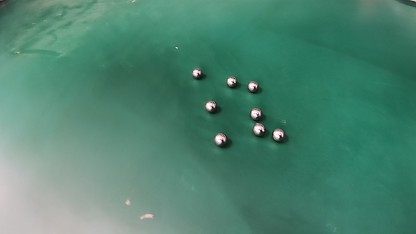ironball: (214, 132, 227, 146), (272, 128, 284, 142), (253, 123, 265, 136), (250, 107, 262, 120), (205, 100, 216, 113), (247, 81, 258, 92), (226, 76, 237, 87), (192, 68, 202, 78)
